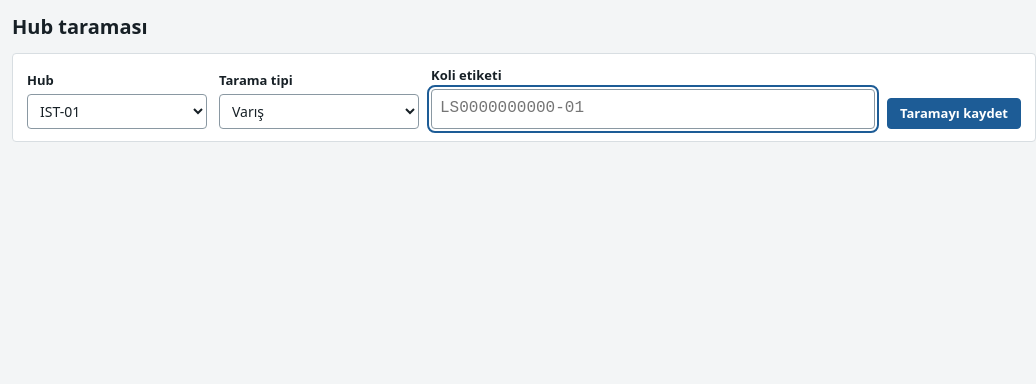
Test case: hub tarama ekranı › iş kuralı reddini nedeni ve koli sayısıyla gösterir
This screenshot has width=1036, height=384.
Select "Çıkış" in the dropdown labelled "Tarama tipi" at x=319, y=111, box [219, 94, 419, 129]
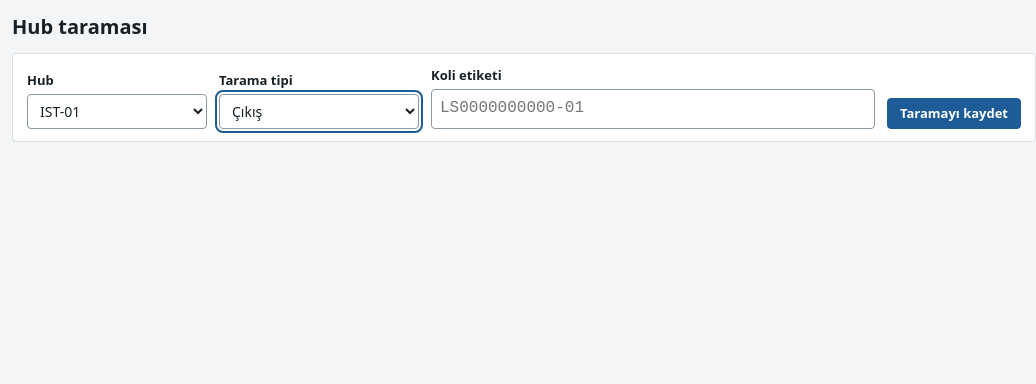
Type "LS4829105735-01" into the field labelled "Koli etiketi" at x=653, y=109, box [431, 89, 875, 129]
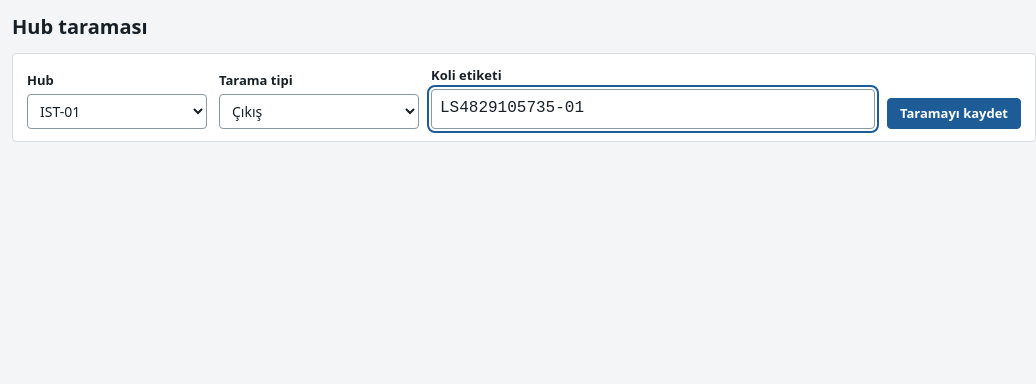
Click the button "Taramayı kaydet" at x=954, y=113, box [887, 98, 1021, 129]
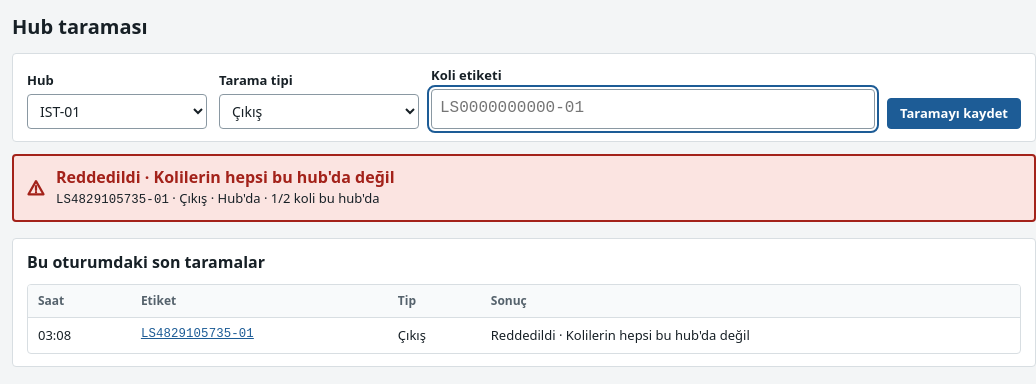
Now the text "Reddedildi · Kolilerin hepsi bu hub'da değil" is shown, box [56, 166, 394, 188]
Now the text "LS4829105735-01 · Çıkış · Hub'da · 1/2 koli bu hub'da" is shown, box [56, 189, 394, 210]
